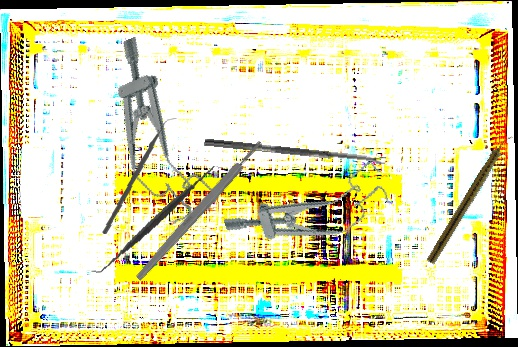Chopper: (96, 117, 184, 235)
Handpiece: (426, 131, 514, 267)
Scalpel Handle: (134, 138, 265, 283)
Spatula Surgical: (90, 152, 224, 287)
Speculum: (83, 30, 224, 233), (219, 159, 396, 265)
Surgical Spoon: (204, 138, 386, 166)
